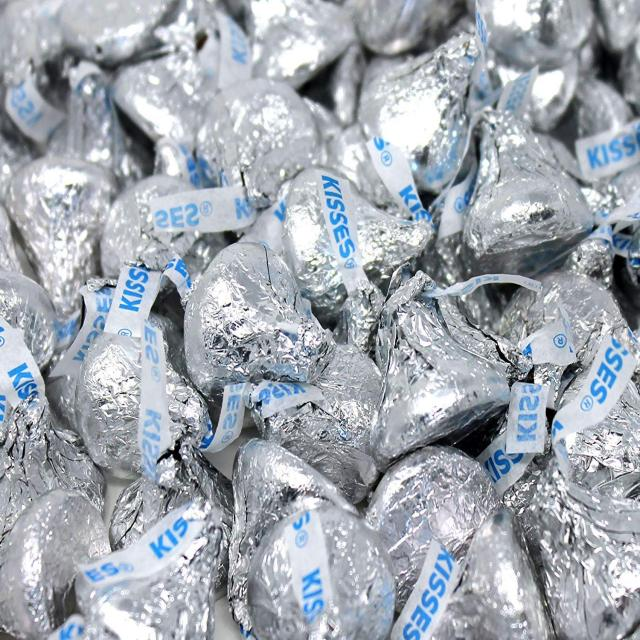kisses: (150, 188, 343, 414), (358, 251, 524, 485), (232, 474, 426, 640), (456, 69, 601, 276), (7, 105, 118, 312)
